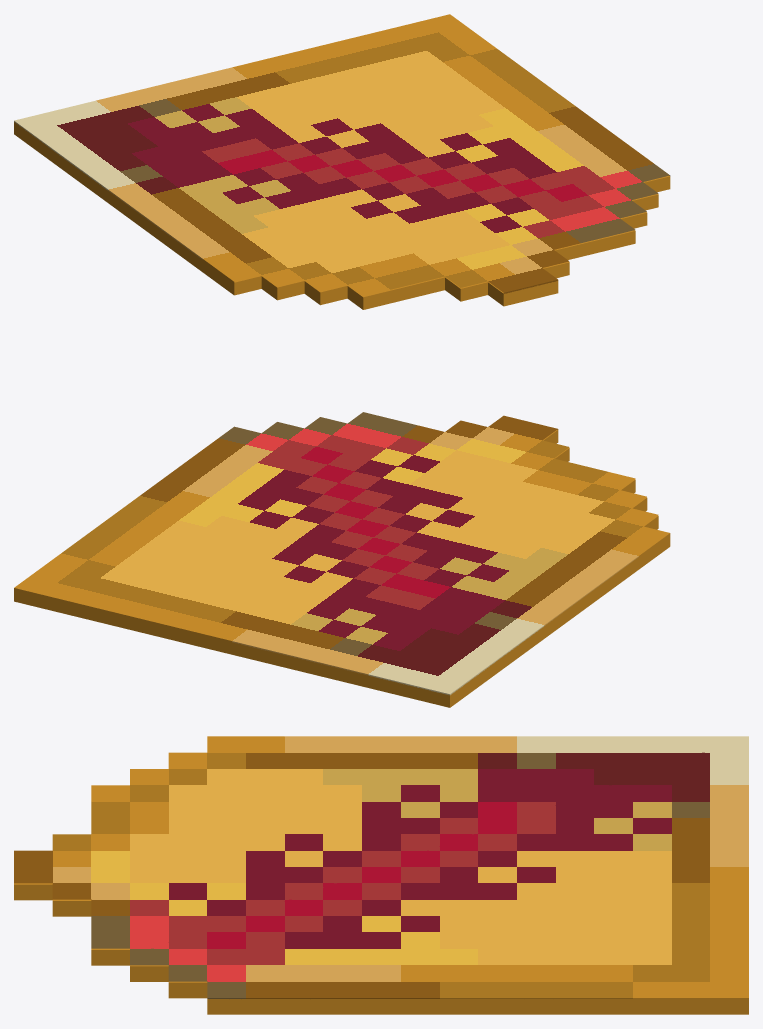
Rendered from CMU3DAU14Patch32ndABInsigniaExtraCloud.glb.
3 renders of one model, top to bottom at view 1: azimuth 30°, elevation 25°; view 2: azimuth 150°, elevation 25°; view 3: azimuth 270°, elevation 25°, orthographic. The views are drawn at different scales.
Parts seen in each view (by area): view 1: Original embroidered face over shaped cloth backing, Cloth backing exact contour 0, Cloth backing exact contour 3, Cloth backing exact contour 5, Cloth backing exact contour 2, Cloth backing exact contour 1, Cloth backing exact contour 4; view 2: Original embroidered face over shaped cloth backing, Cloth backing exact contour 0; view 3: Original embroidered face over shaped cloth backing, Cloth backing exact contour 0, Cloth backing exact contour 4, Cloth backing exact contour 1, Cloth backing exact contour 3, Cloth backing exact contour 5, Cloth backing exact contour 2.
Part boxes in pixels (left/top/right/bottom): Original embroidered face over shaped cloth backing: left=14, top=14, right=670, bottom=296; Cloth backing exact contour 0: left=14, top=122, right=670, bottom=295; Cloth backing exact contour 3: left=347, top=230, right=635, bottom=309; Cloth backing exact contour 5: left=488, top=281, right=558, bottom=306; Cloth backing exact contour 2: left=304, top=212, right=647, bottom=305; Cloth backing exact contour 1: left=261, top=194, right=658, bottom=300; Cloth backing exact contour 4: left=445, top=261, right=569, bottom=301; Original embroidered face over shaped cloth backing: left=14, top=412, right=670, bottom=695; Cloth backing exact contour 0: left=14, top=534, right=670, bottom=707; Original embroidered face over shaped cloth backing: left=14, top=736, right=748, bottom=999; Cloth backing exact contour 0: left=207, top=999, right=748, bottom=1014; Cloth backing exact contour 4: left=52, top=899, right=91, bottom=916; Cloth backing exact contour 1: left=168, top=981, right=207, bottom=998; Cloth backing exact contour 3: left=91, top=948, right=129, bottom=965; Cloth backing exact contour 5: left=14, top=883, right=52, bottom=900; Cloth backing exact contour 2: left=130, top=965, right=168, bottom=981.
Bounding box in the file's own units: 0.5 × 0.015 × 0.5938.
Materials: 2 (1 with a texture image).
